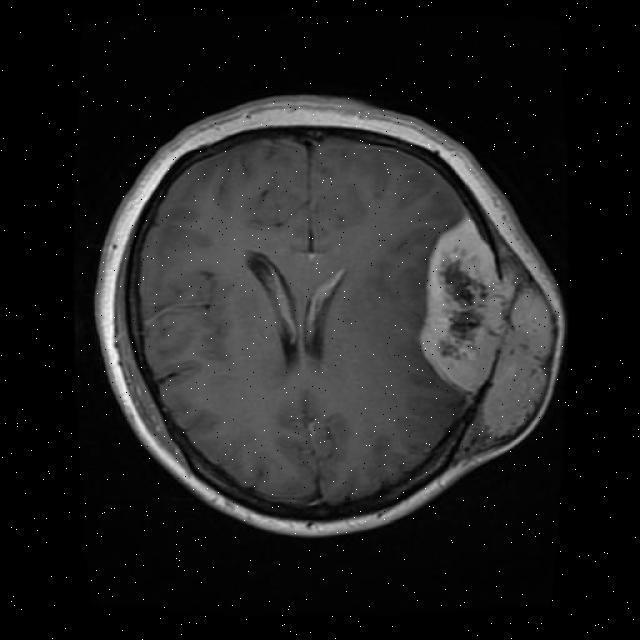Meningioma: (420, 216, 564, 475)
